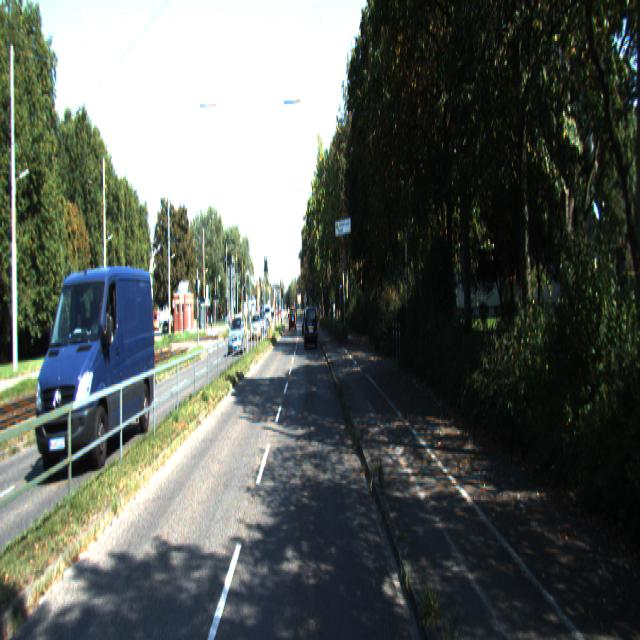Car: (228, 316, 246, 356), (305, 305, 318, 350)
DontCare: (250, 293, 298, 345), (203, 308, 216, 332)
Van: (36, 254, 158, 482)
